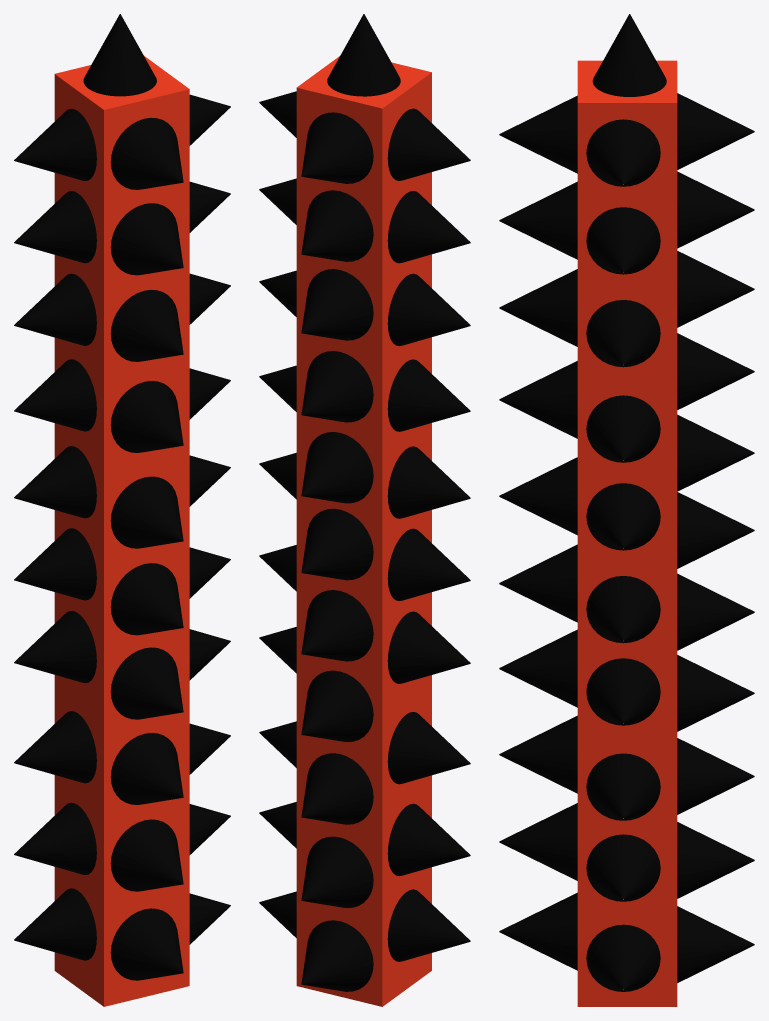
Rendered from ObstaculoParado.fbx.
3 views of the same model, side by side, from view 1: azimuth 30°, elevation 25°; view 2: azimuth 150°, elevation 25°; view 3: azimuth 270°, elevation 25° (orthographic).
Parts seen in each view (by area): view 1: Pijnches 1; view 2: Pijnches 1; view 3: Pijnches 1.
Part boxes in pixels (x1,y1,x2,y2): Pijnches 1: (14, 14, 230, 1006); Pijnches 1: (259, 14, 470, 1006); Pijnches 1: (499, 14, 754, 1006).
Size of the model in its own units: 125 by 537 by 128.
Materials: 1 (1 with a texture image).
